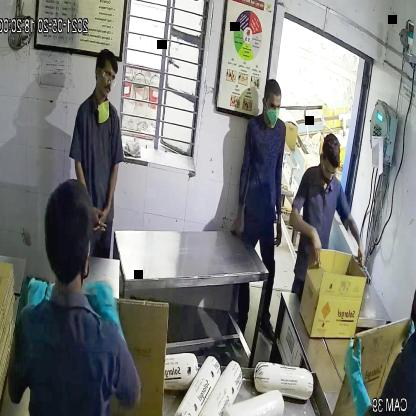goggles: (99, 68, 119, 88)
no_goggles: (262, 99, 284, 114)
